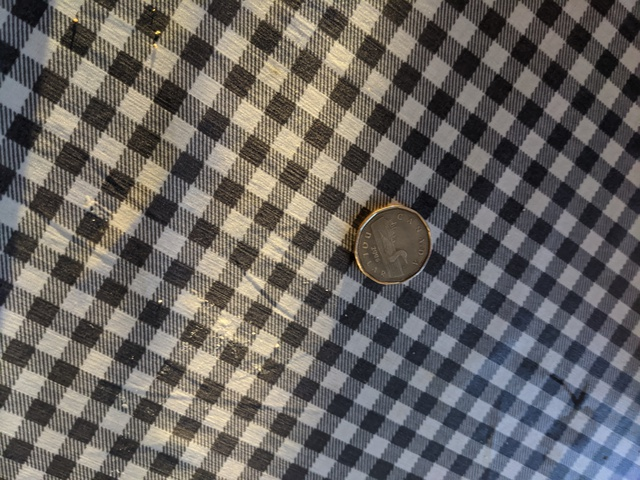loonie: (345, 196, 433, 282)
